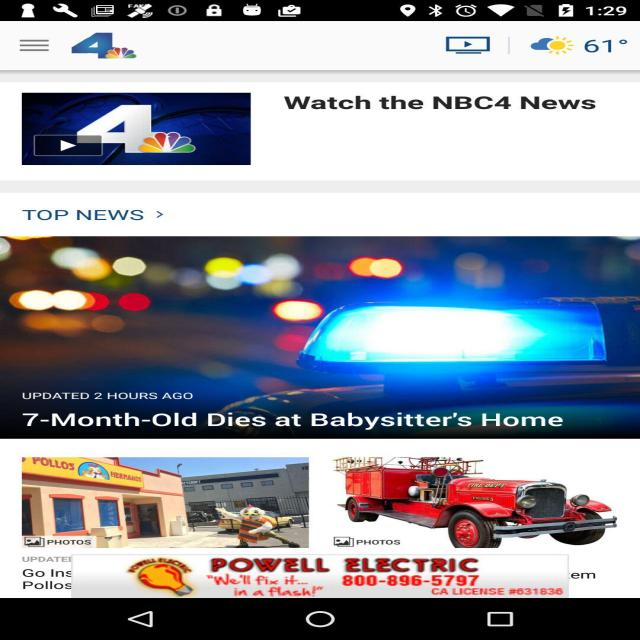button: (429, 0, 632, 30), (17, 29, 55, 61)
icon: (533, 32, 628, 61), (427, 32, 512, 63), (114, 606, 166, 638), (290, 605, 342, 633), (471, 608, 525, 632)
image: (0, 239, 636, 440), (11, 453, 628, 602), (19, 88, 267, 162)
text: (205, 557, 569, 600), (24, 409, 569, 430), (285, 98, 597, 112), (89, 100, 171, 153), (21, 205, 179, 226), (14, 551, 78, 596), (16, 388, 208, 402), (78, 35, 128, 61), (27, 535, 91, 551)
